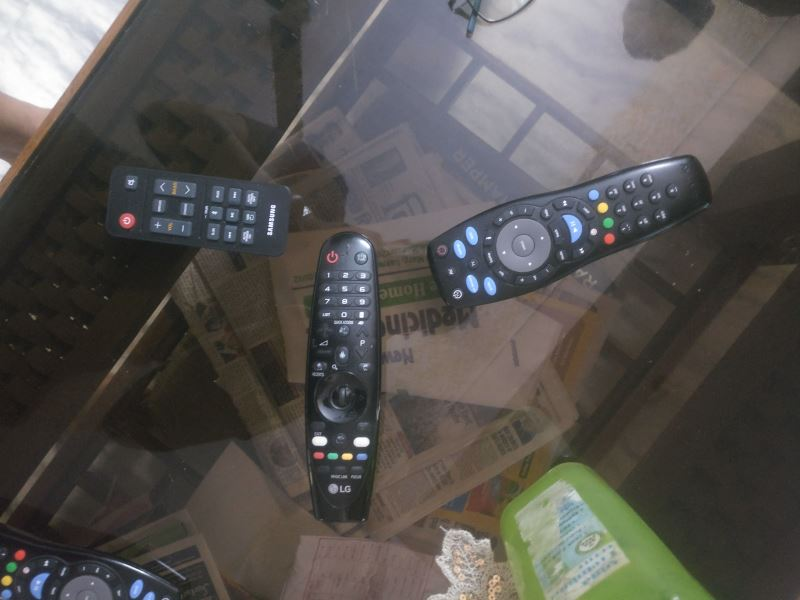tv remote: (428, 155, 714, 308), (306, 232, 384, 525), (103, 166, 293, 256)
